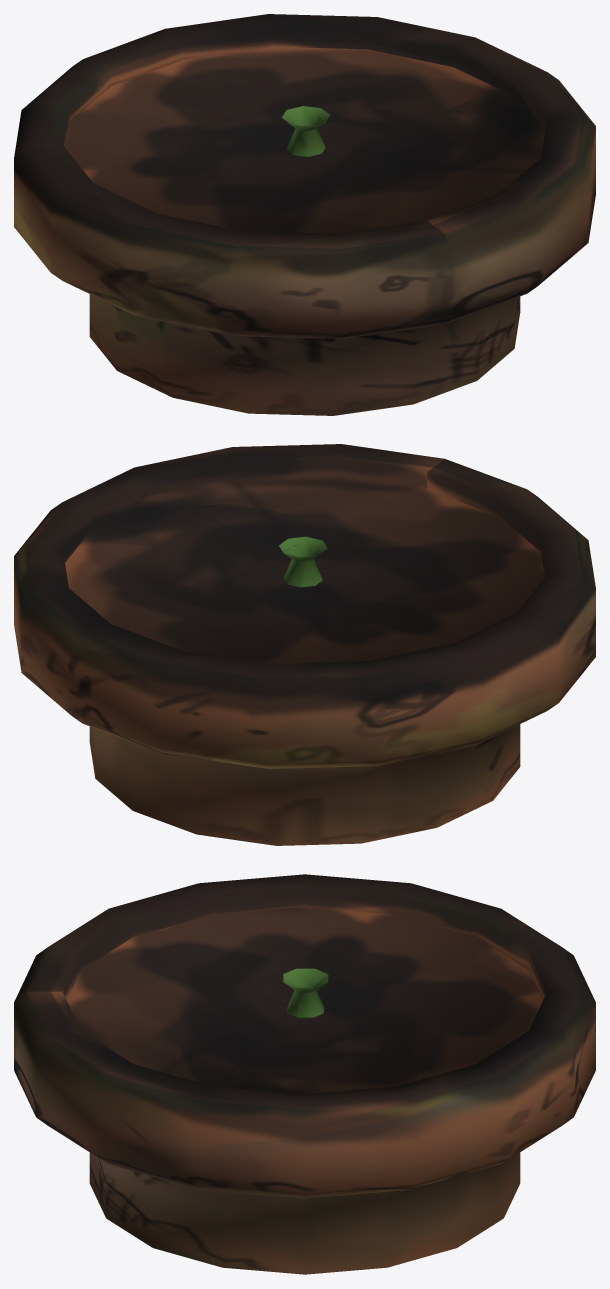
Rendered from Torre1_Teste.fbx.
The picture shows the model from 3 angles, top to bottom: view 1: azimuth 30°, elevation 25°; view 2: azimuth 150°, elevation 25°; view 3: azimuth 270°, elevation 25°; orthographic projection.
Parts seen in each view (by area): view 1: Bandeja.001, Bandeja; view 2: Bandeja.001, Bandeja; view 3: Bandeja.001, Bandeja.
Boxes of the visible parts, x1,y1,x2,y2 form: Bandeja.001: [14, 14, 595, 415]; Bandeja: [281, 106, 330, 156]; Bandeja.001: [14, 444, 595, 845]; Bandeja: [279, 536, 327, 587]; Bandeja.001: [14, 874, 595, 1274]; Bandeja: [283, 968, 328, 1017].
Bounding box in the file's own units: 93.46 × 93.46 × 36.55.
